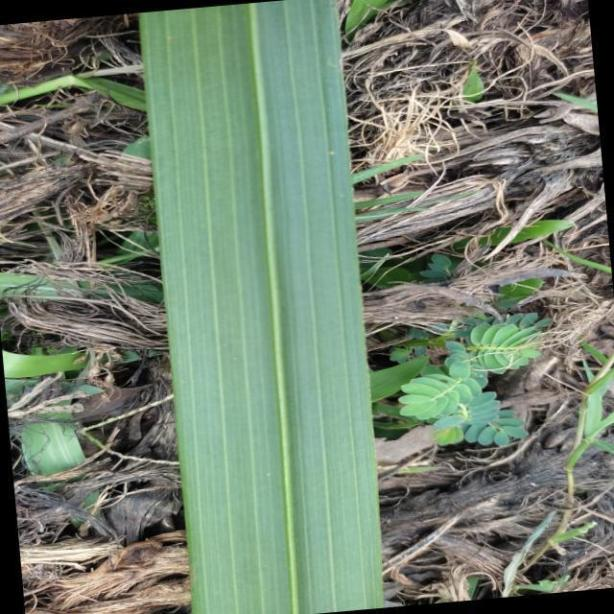Healthy: (144, 5, 387, 614)
